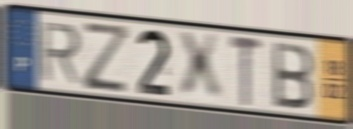2: (137, 27, 172, 98)
B: (271, 39, 316, 112)
R: (39, 20, 84, 87)
T: (228, 32, 265, 109)
X: (175, 30, 225, 103)
Z: (82, 19, 132, 95)
